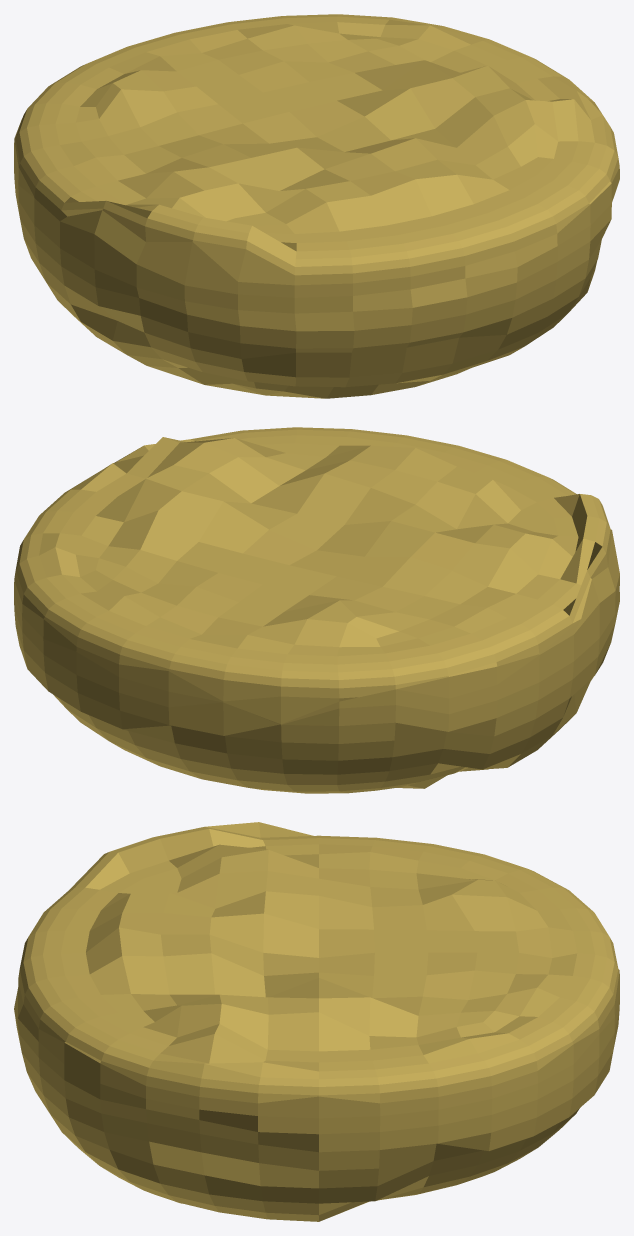
File: sandIsland.fbx
3 views of the same model, one above another, from view 1: azimuth 30°, elevation 25°; view 2: azimuth 150°, elevation 25°; view 3: azimuth 270°, elevation 25° (orthographic).
Visible parts, largest first — view 1: Cube; view 2: Cube; view 3: Cube.
Part boxes in pixels (bbox=[...]): Cube: bbox=[14, 14, 619, 398]; Cube: bbox=[14, 427, 619, 793]; Cube: bbox=[14, 822, 619, 1221].
Size of the model in its own units: 183 by 80.73 by 185.
